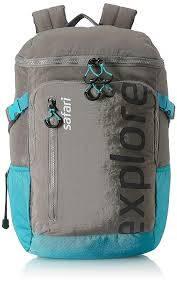backpack: (2, 3, 175, 259)
